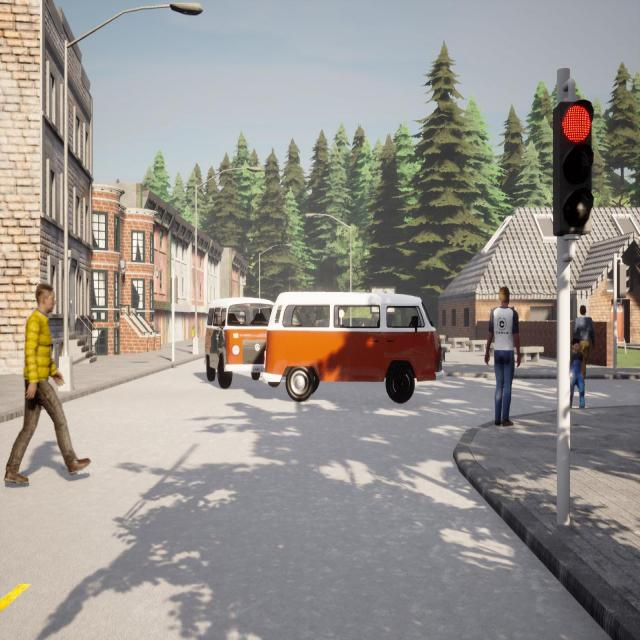Pedestrian: (4, 283, 90, 486), (485, 287, 519, 425), (573, 305, 595, 384), (569, 341, 587, 416), (189, 322, 197, 344)
Traffic_Signs: (338, 308, 345, 318)
Vehicle: (262, 292, 444, 403), (202, 298, 277, 389)
traffic_light: (552, 99, 594, 236), (618, 264, 630, 299), (170, 278, 177, 304)
